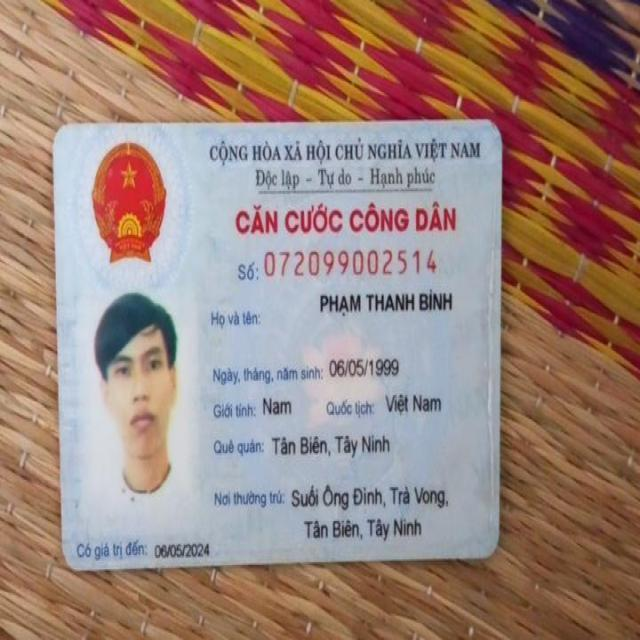bottom_left: (48, 544, 89, 582)
bottom_right: (465, 531, 512, 572)
image_person: (67, 293, 218, 528)
top_left: (35, 113, 70, 150)
top_right: (480, 104, 512, 152)
